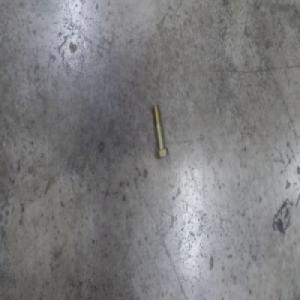Bolt: (151, 104, 168, 161)
